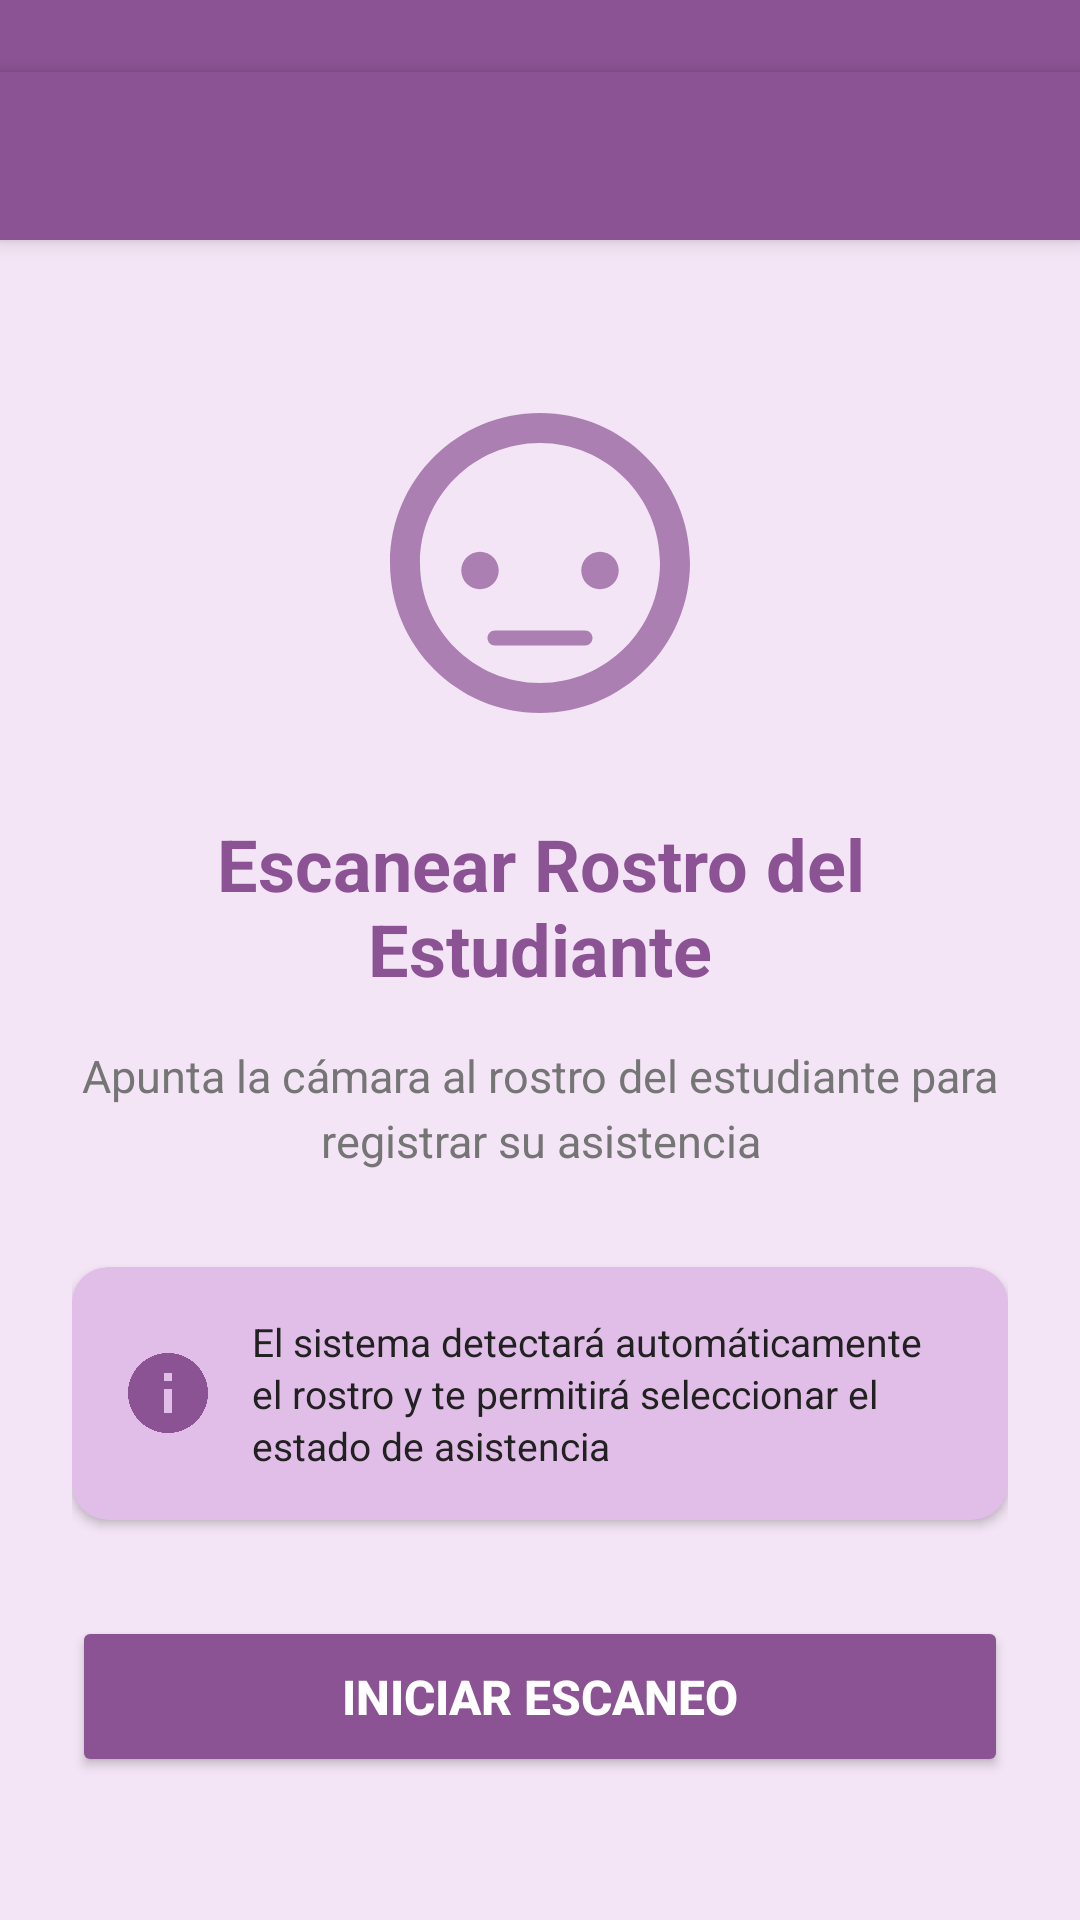

Icon click points for this 1080 × 1920 phone screenshot, format (x,y):
info: (168,1393)
